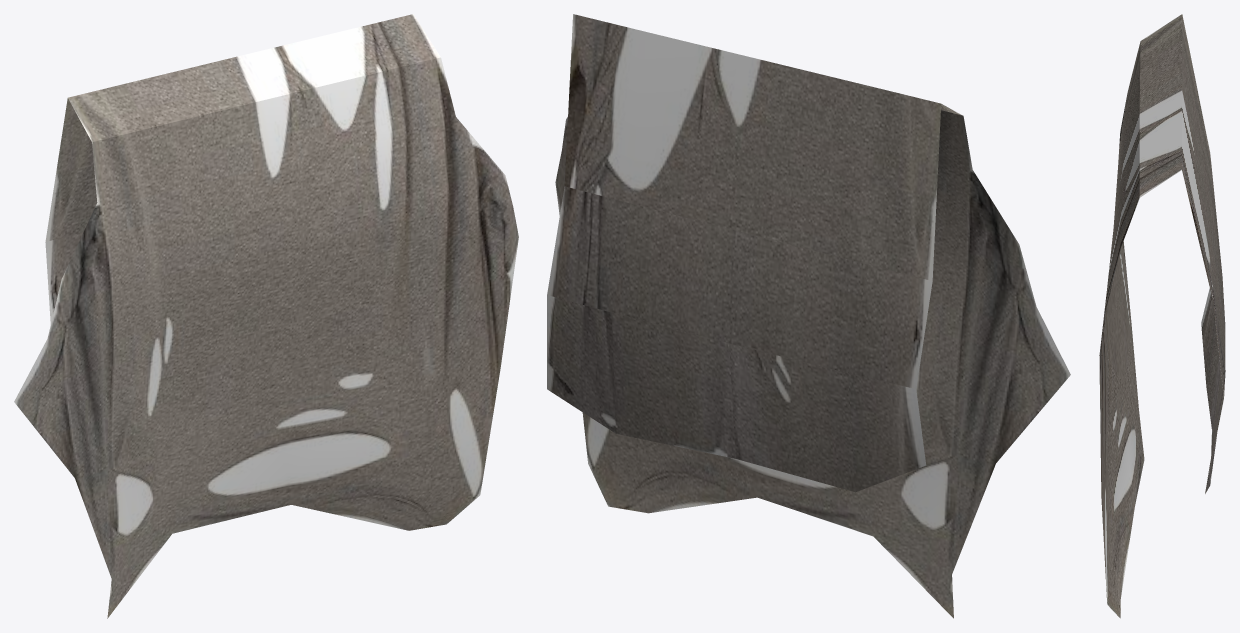
The model's file is Tshirt_2.fbx.
3 views of the same model, side by side, from view 1: azimuth 30°, elevation 25°; view 2: azimuth 150°, elevation 25°; view 3: azimuth 270°, elevation 25° (orthographic). The views are drawn at different scales.
Visible parts, largest first — view 1: Plane.003; view 2: Plane.003; view 3: Plane.003.
Boxes of the visible parts, left/top/right/bottom form: Plane.003: left=14, top=14, right=518, bottom=618; Plane.003: left=547, top=14, right=1070, bottom=618; Plane.003: left=1099, top=14, right=1225, bottom=618.
Bounding box in the file's own units: 166 × 162 × 39.73.
